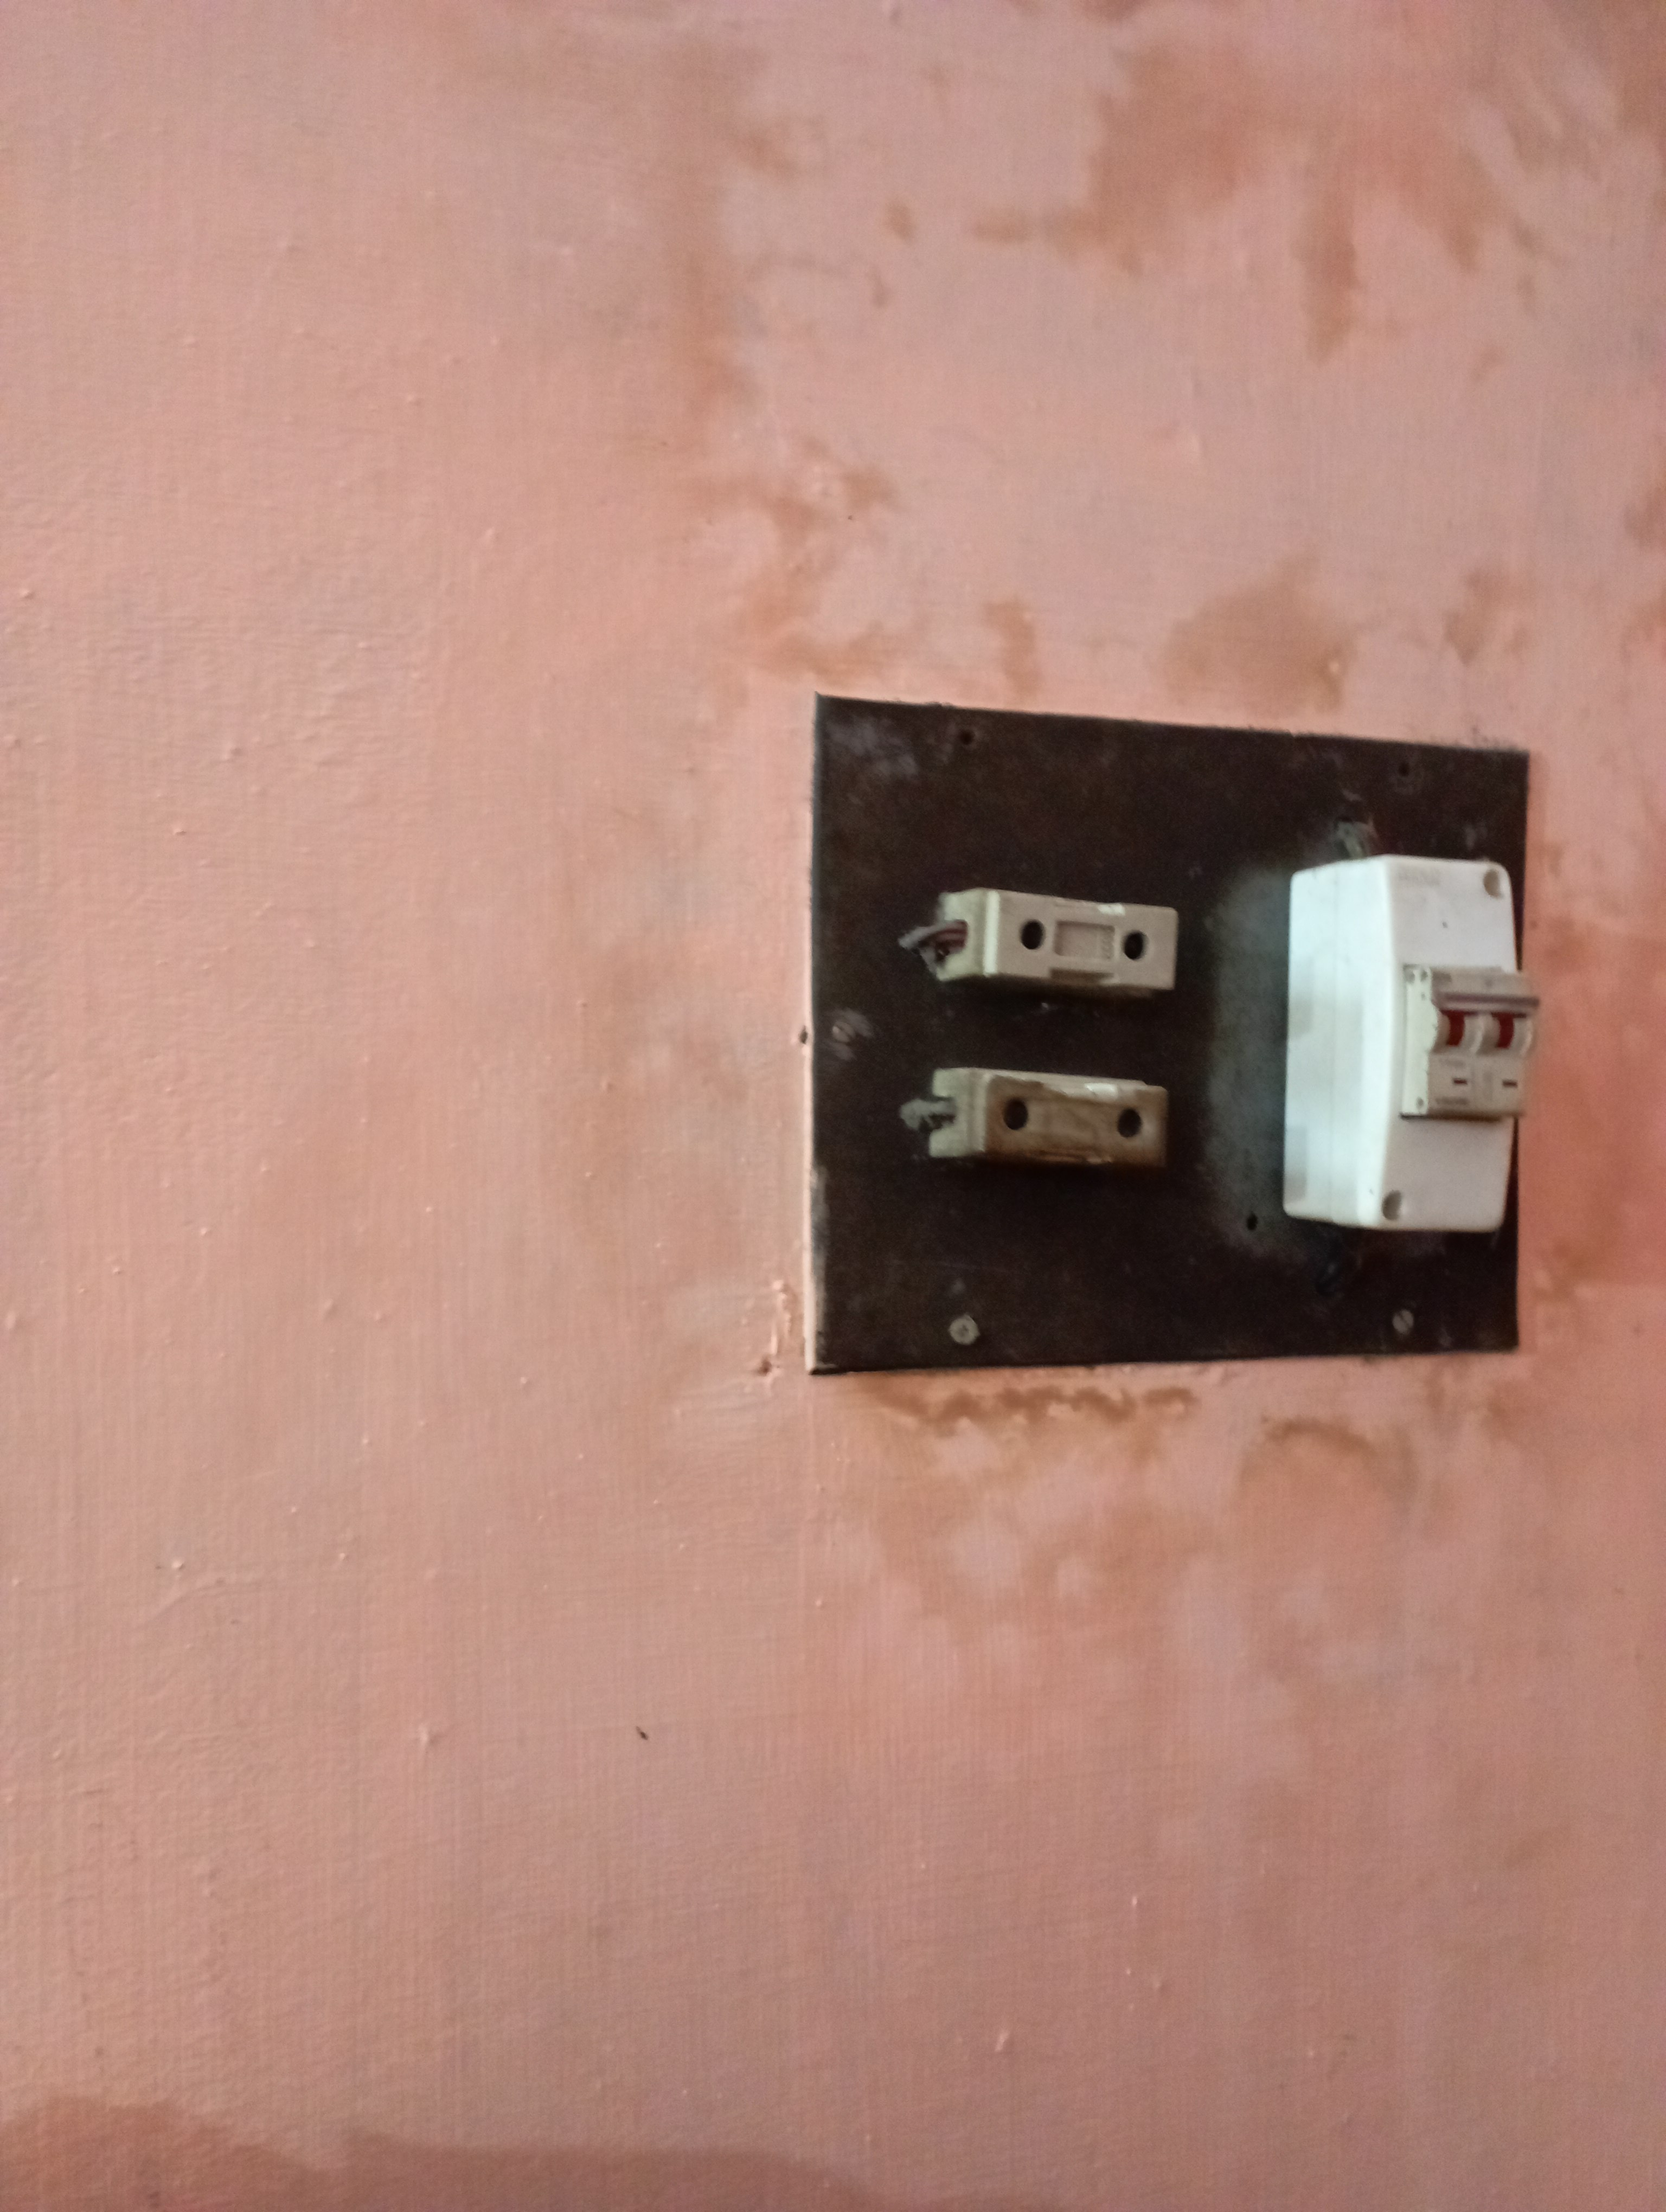ciruit_breaker: (1269, 855, 1552, 1247)
fuse: (908, 855, 1193, 1005), (908, 1053, 1169, 1189)
